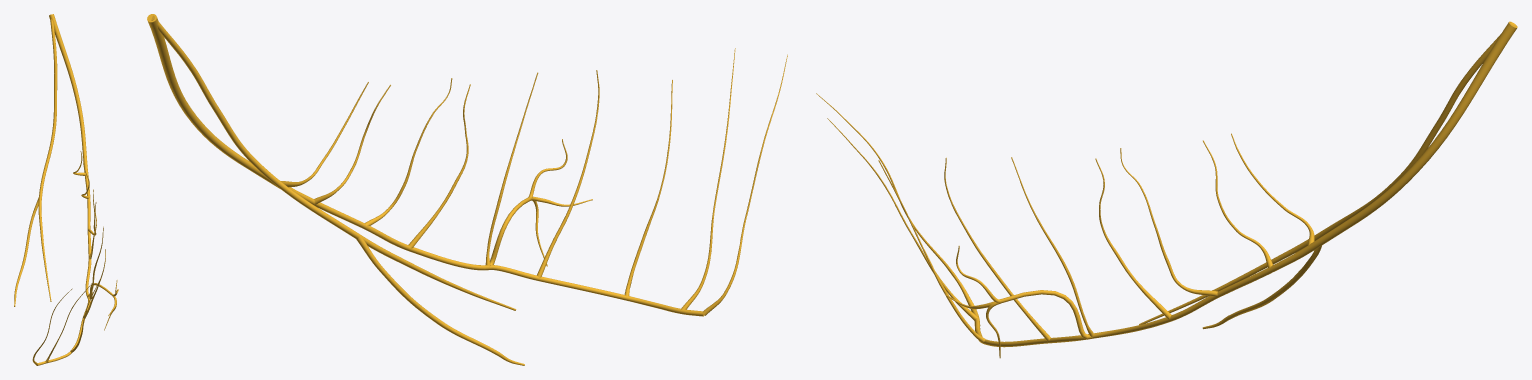
Rendered from nervoso-inferior-alveolar-nerve-l.glb.
The picture shows the model from 3 angles, left to right: view 1: azimuth 30°, elevation 25°; view 2: azimuth 150°, elevation 25°; view 3: azimuth 270°, elevation 25°; orthographic projection. The views are drawn at different scales.
Visible parts, largest first — view 1: Inferior alveolar nerve.l, Nerve to mylohyoid muscle.l, Mental nerve.l; view 2: Inferior alveolar nerve.l, Nerve to mylohyoid muscle.l, Mental nerve.l; view 3: Inferior alveolar nerve.l, Nerve to mylohyoid muscle.l, Mental nerve.l.
Boxes of the visible parts, x1,y1,x2,y2 form: Inferior alveolar nerve.l: [32, 14, 112, 365]; Nerve to mylohyoid muscle.l: [14, 14, 57, 306]; Mental nerve.l: [104, 280, 118, 330]; Inferior alveolar nerve.l: [147, 14, 787, 316]; Nerve to mylohyoid muscle.l: [151, 15, 524, 365]; Mental nerve.l: [528, 139, 592, 266]; Inferior alveolar nerve.l: [816, 21, 1517, 347]; Nerve to mylohyoid muscle.l: [1139, 22, 1515, 329]; Mental nerve.l: [945, 245, 1001, 358].
Bounding box in the file's own units: 0.0356 × 0.0451 × 0.0658.
